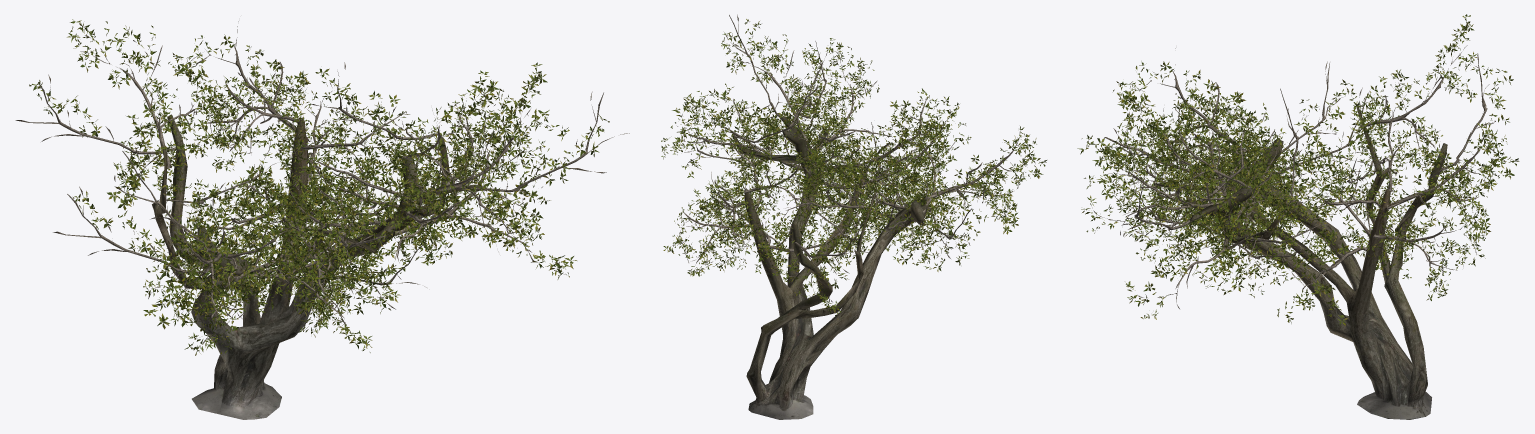
File: crown_02.glb
3 renders of one model, left to right at view 1: azimuth 30°, elevation 25°; view 2: azimuth 150°, elevation 25°; view 3: azimuth 270°, elevation 25°, orthographic. The views are drawn at different scales.
Visible parts, largest first — view 1: island_tree_02_LOD0; view 2: island_tree_02_LOD0; view 3: island_tree_02_LOD0.
Boxes of the visible parts, x1,y1,x2,y2 form: island_tree_02_LOD0: (15, 19, 629, 419); island_tree_02_LOD0: (661, 14, 1046, 419); island_tree_02_LOD0: (1077, 14, 1519, 419).
Bounding box in the file's own units: 4.21 × 3.4 × 4.07.
Materials: 3 (3 with a texture image).
